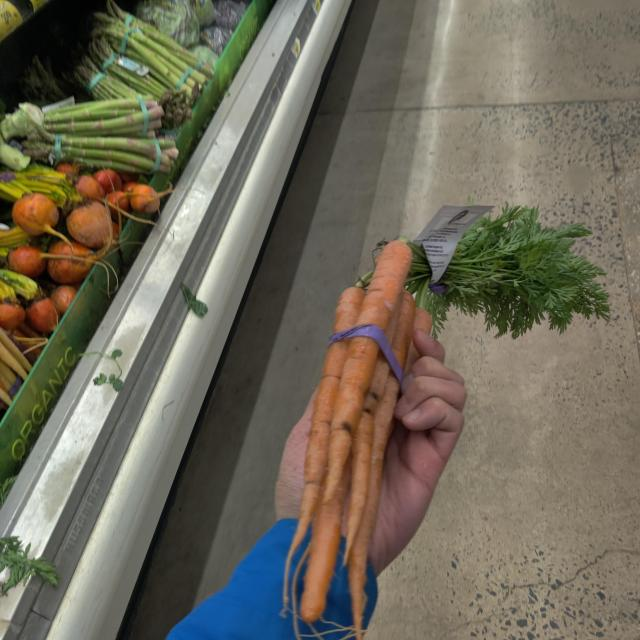Carrots: (302, 186, 626, 634)
